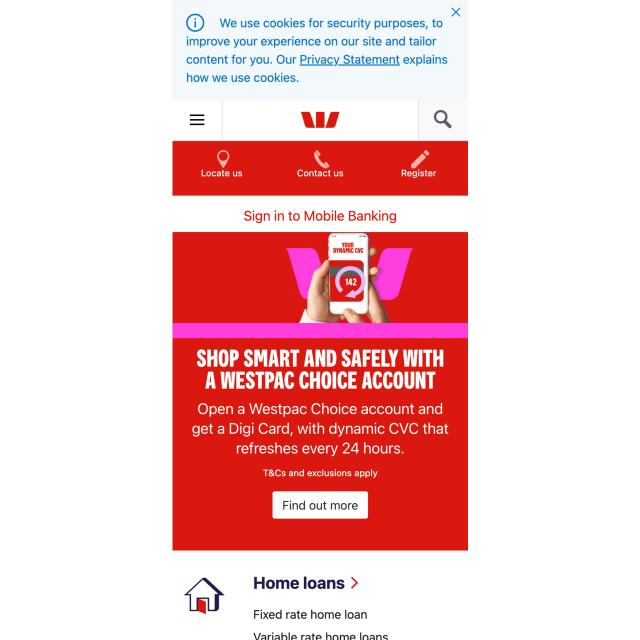CheckBox: (273, 491, 368, 518), (299, 52, 401, 69)
bag: (171, 100, 468, 140)
carousel: (407, 150, 431, 170), (431, 108, 452, 130), (311, 149, 333, 170), (186, 13, 204, 32), (217, 148, 231, 170), (189, 110, 205, 128), (449, 5, 463, 18)
data feed: (281, 499, 360, 513)
date picker: (293, 109, 342, 131)
decoration: (186, 107, 208, 130)
header: (173, 0, 468, 99)
image: (193, 346, 447, 389)
